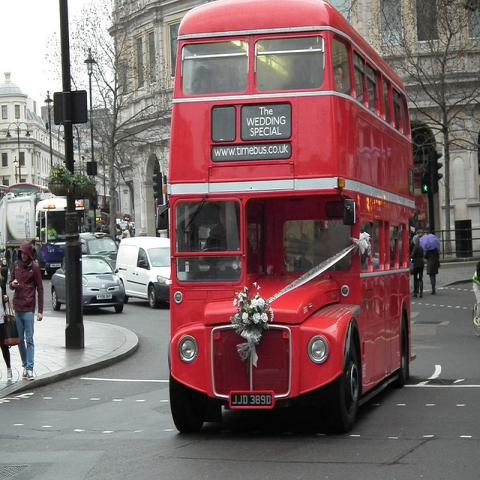bus: (165, 1, 417, 433)
car: (51, 254, 124, 312), (116, 235, 171, 308), (77, 232, 120, 274)
truck: (1, 194, 67, 276), (115, 236, 170, 308)
